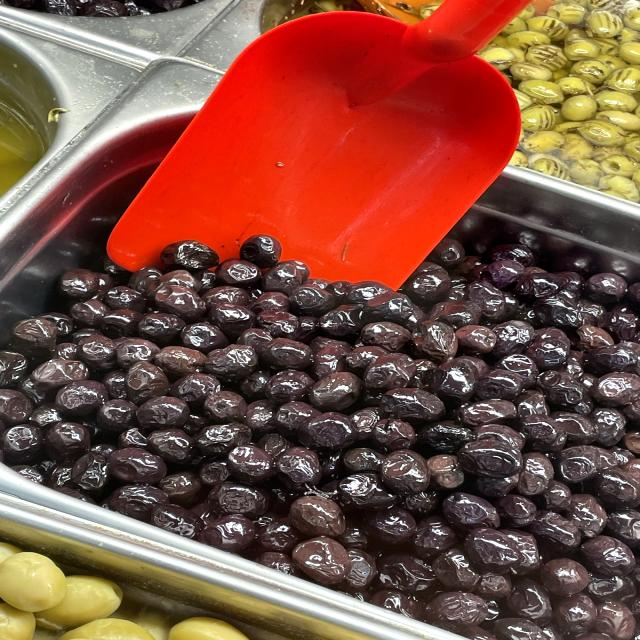olive: (73, 309, 550, 507), (453, 523, 532, 580), (275, 487, 360, 537), (286, 532, 358, 588), (374, 444, 442, 501), (305, 363, 376, 415), (200, 336, 271, 385), (125, 388, 195, 432), (155, 234, 221, 273)
